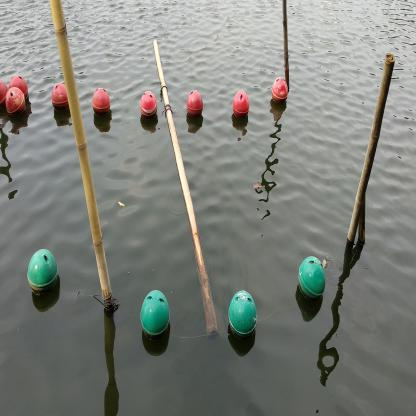green_buoy: (25, 248, 60, 306), (227, 285, 258, 349), (138, 288, 172, 346), (296, 255, 328, 310)
red_buoy: (6, 85, 28, 122), (186, 85, 206, 125), (91, 85, 112, 119), (231, 89, 252, 121), (138, 92, 158, 125), (271, 77, 289, 110), (51, 80, 68, 114), (11, 70, 29, 88)
